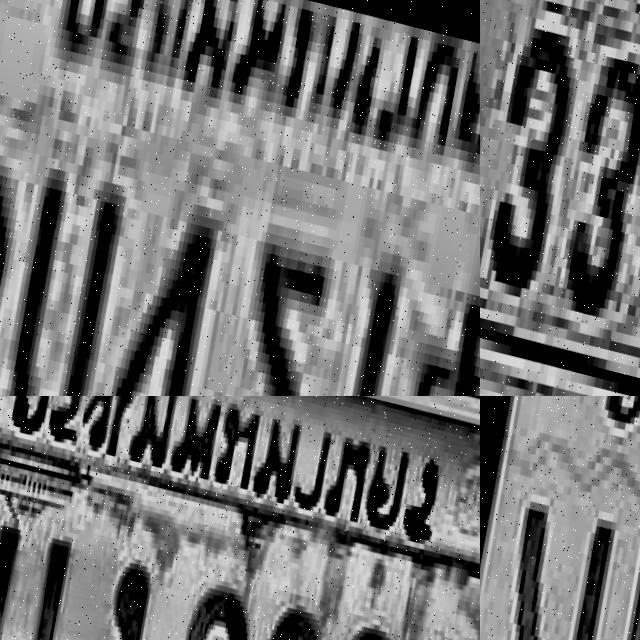license-plate: (0, 0, 480, 396), (0, 396, 480, 640), (480, 0, 640, 396), (480, 396, 640, 640)
